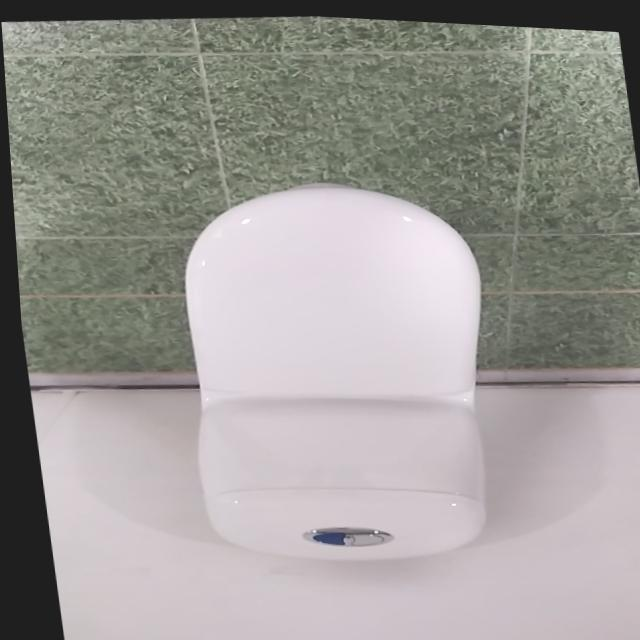toilet: (156, 163, 514, 574)
